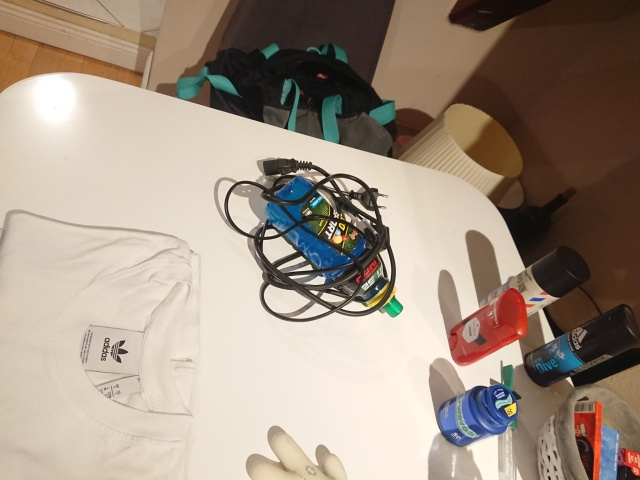Vindi Iso Sport Forest Strawberries 500mL: (263, 174, 404, 318)
